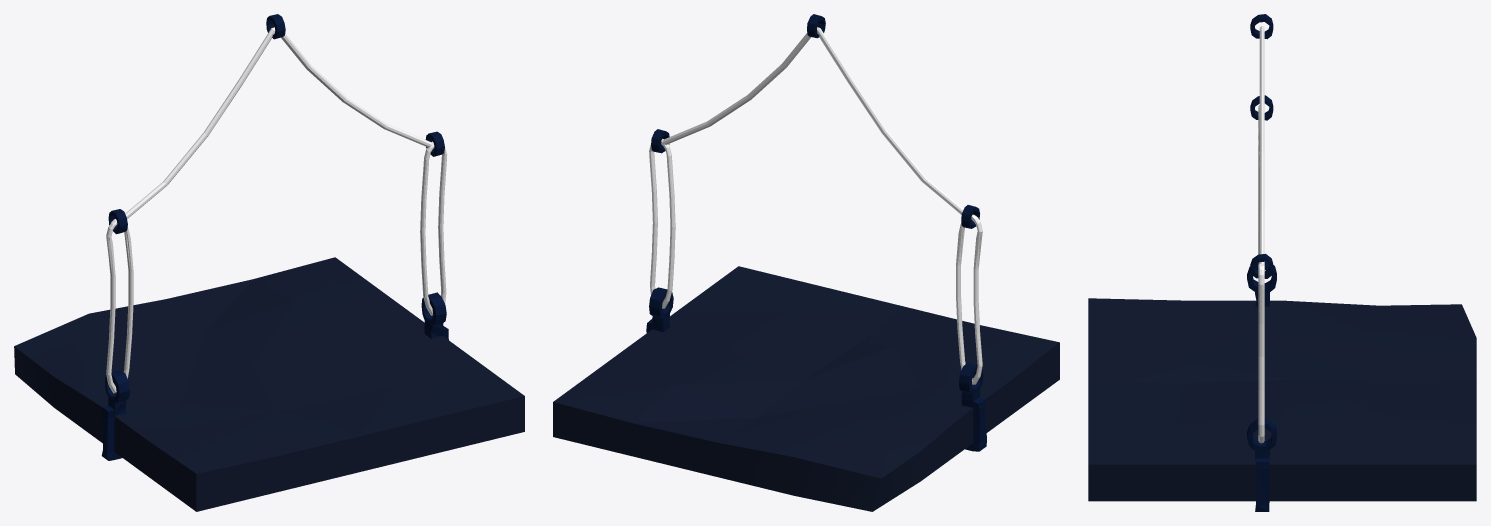
Rendered from obstacle_floating_platform.FBX.
3 renders of one model, left to right at view 1: azimuth 30°, elevation 25°; view 2: azimuth 150°, elevation 25°; view 3: azimuth 270°, elevation 25°, orthographic. The views are drawn at different scales.
Visible parts, largest first — view 1: floating_platform; view 2: floating_platform; view 3: floating_platform.
Part boxes in pixels (box(x1,y1,x2,y2)): floating_platform: box(14, 14, 524, 511); floating_platform: box(553, 14, 1059, 511); floating_platform: box(1088, 14, 1476, 511).
Size of the model in its own units: 8.36 by 9.37 by 8.
